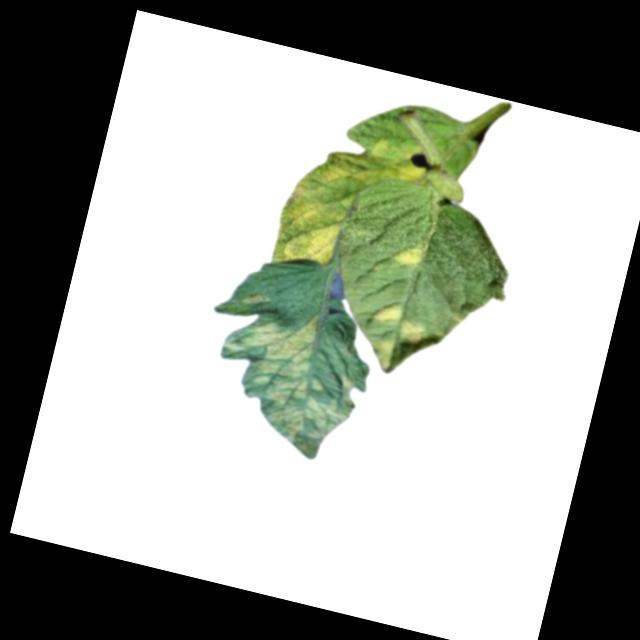Leaf_Mold: (201, 293, 373, 467), (302, 117, 435, 207), (267, 178, 348, 270), (390, 235, 432, 271), (365, 335, 399, 373), (371, 298, 406, 326), (394, 319, 428, 347)
